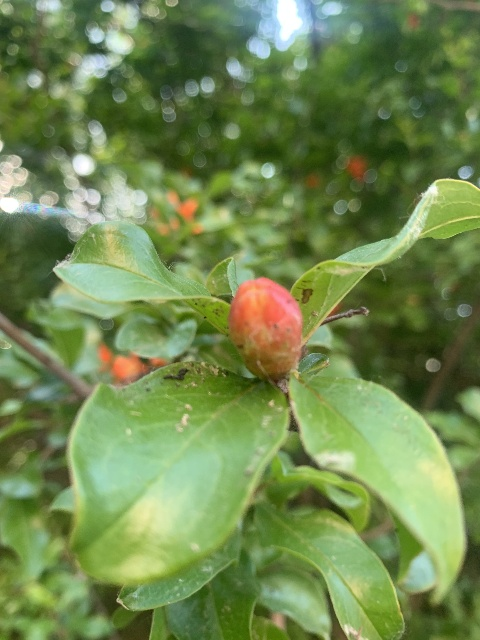bud: (228, 277, 303, 379)
